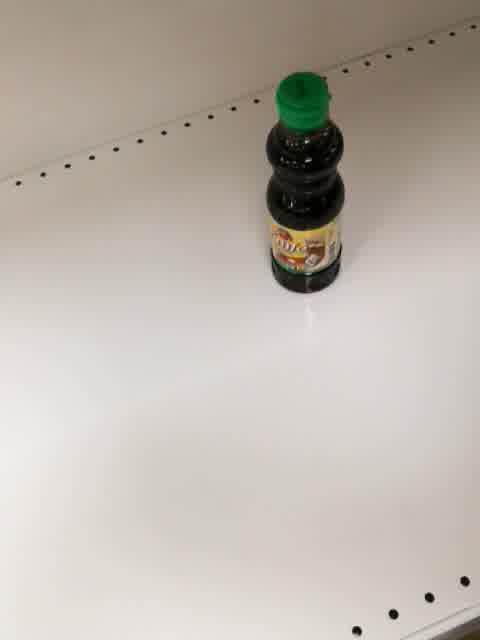cookingoil: (261, 70, 347, 298)
